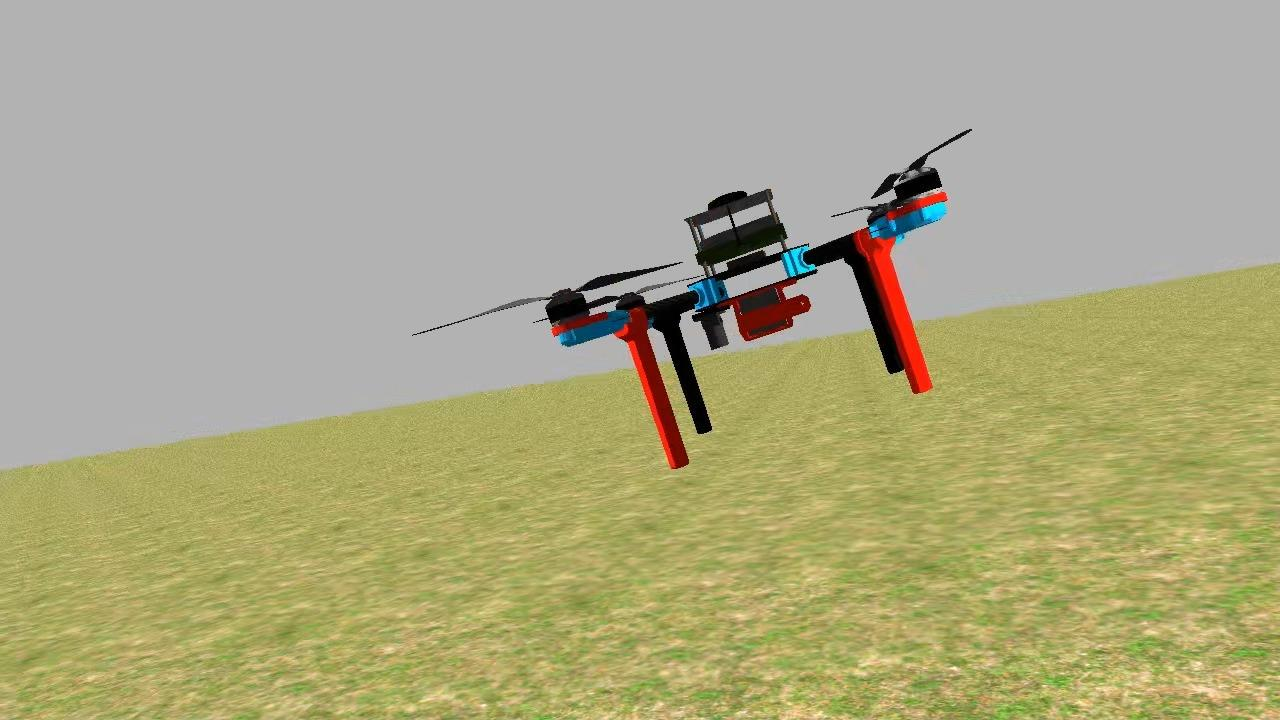UAV: (502, 107, 974, 499)
